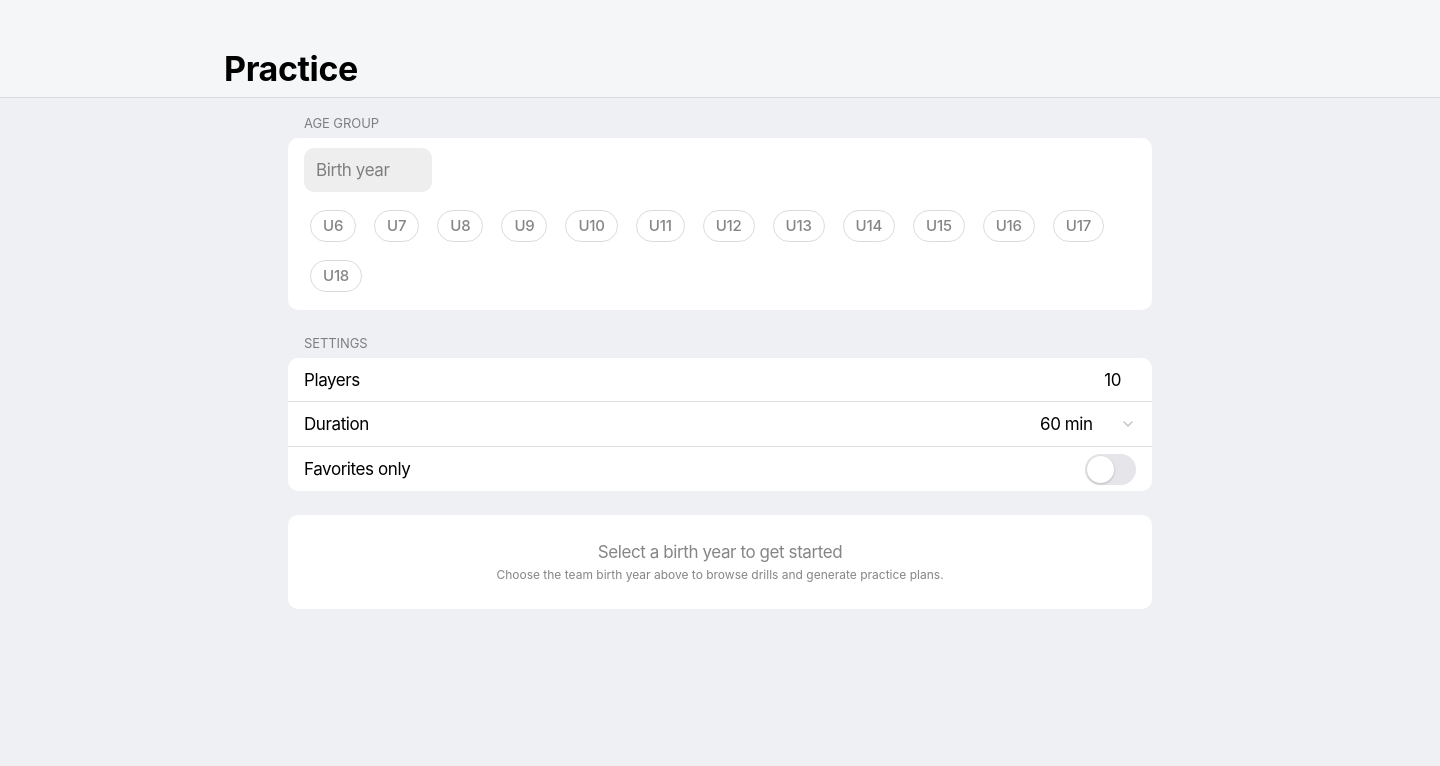
Test case: Practice page › hides tactical categories for U8 bracket
Click the button "U8": (460, 226) [431,204,489,248]
(page scrolled)
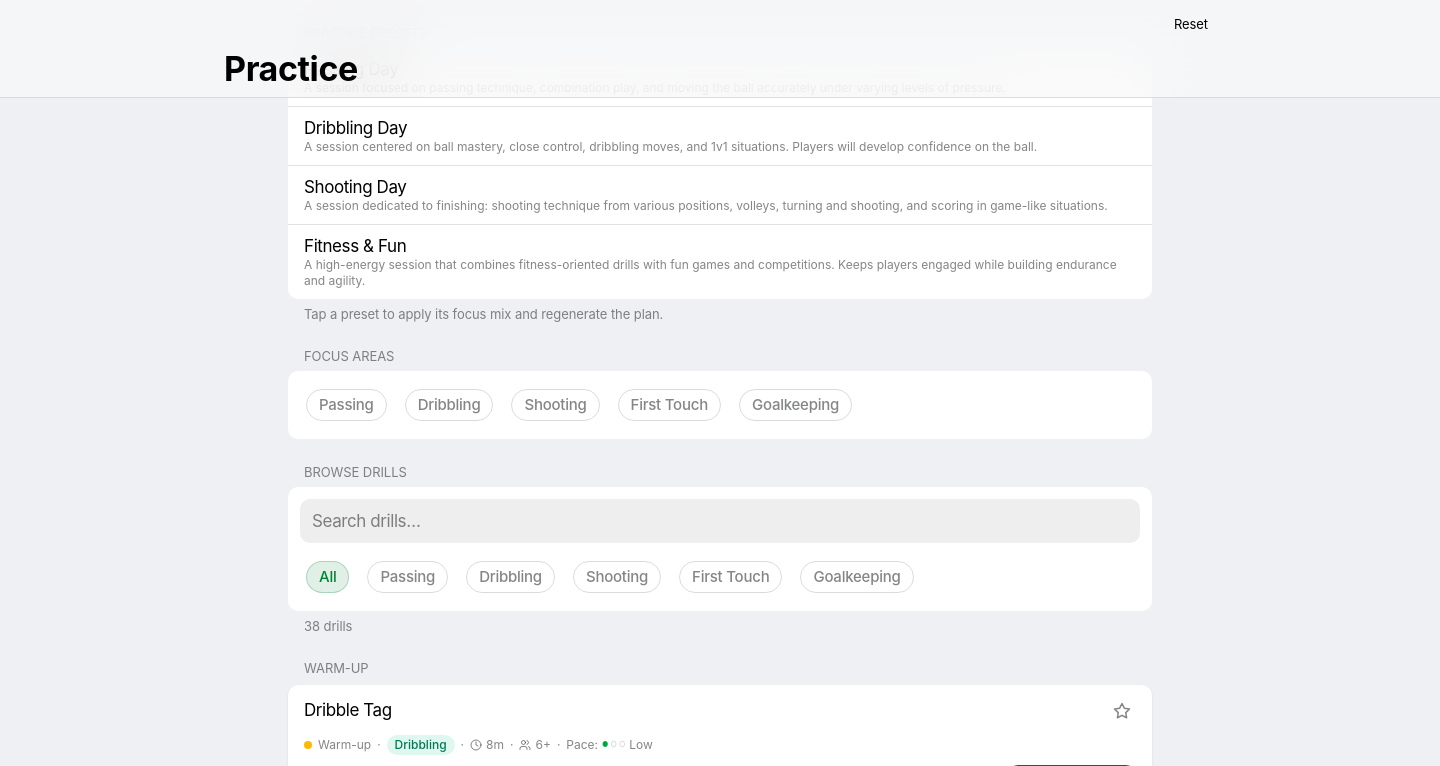
Now the button "Dribbling" below "Focus Areas" is shown, box [399,383,500,427]
